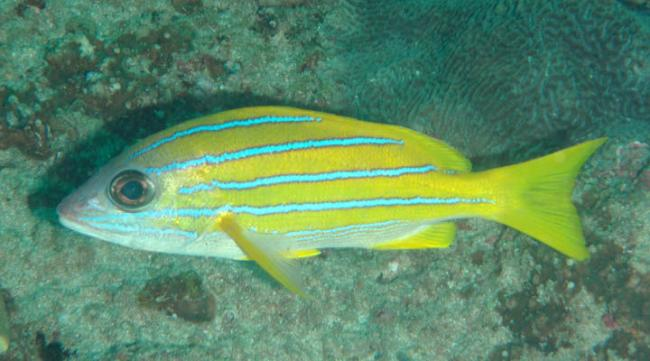fish: (56, 103, 609, 296)
